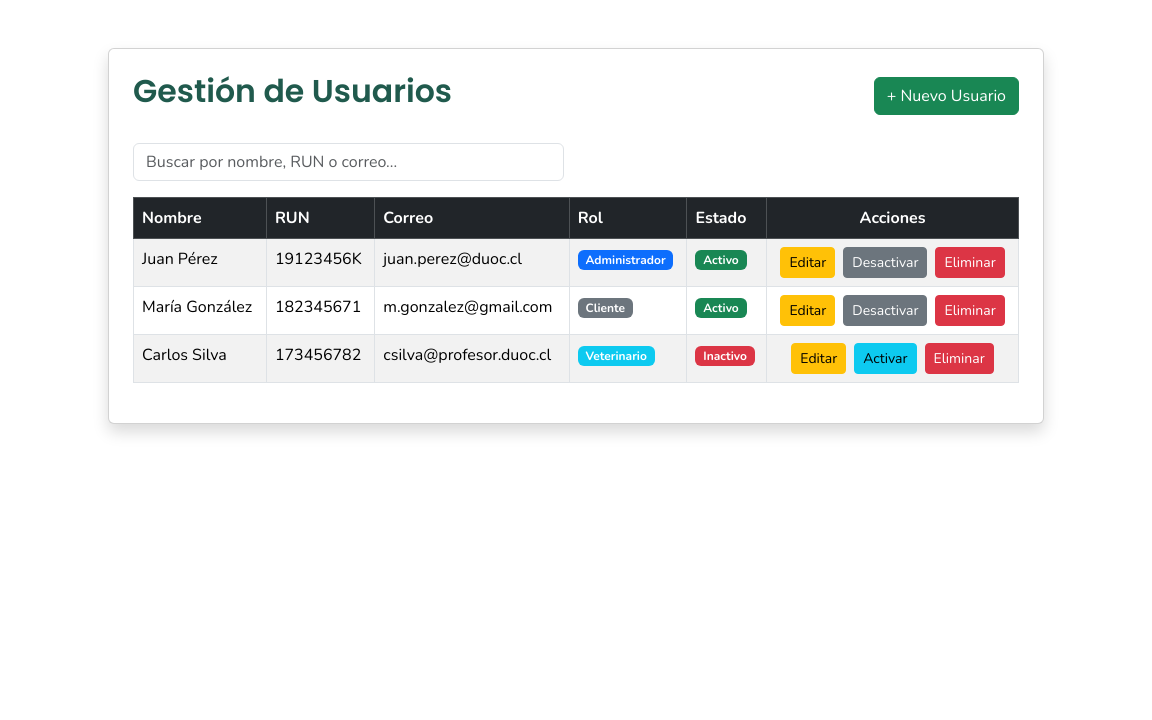
UsuariosAdmin Component › crea exitosamente un nuevo usuario y lo añade a la tabla
Click the button "+ Nuevo Usuario" at (946, 96), box [874,77,1019,115]
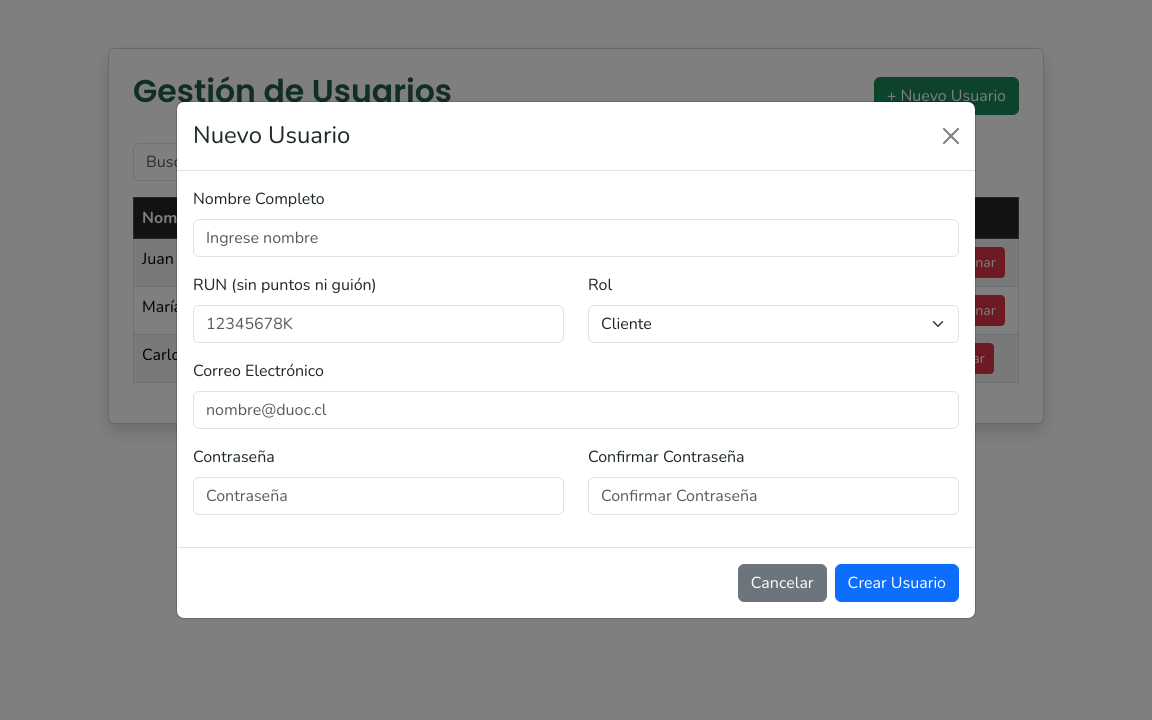
Type "Ana Torres" into the field with placeholder "Ingrese nombre" at (576, 238), box [193,219,959,257]
Type "111111111" into the field with placeholder "12345678K" at (378, 324), box [193,305,564,343]
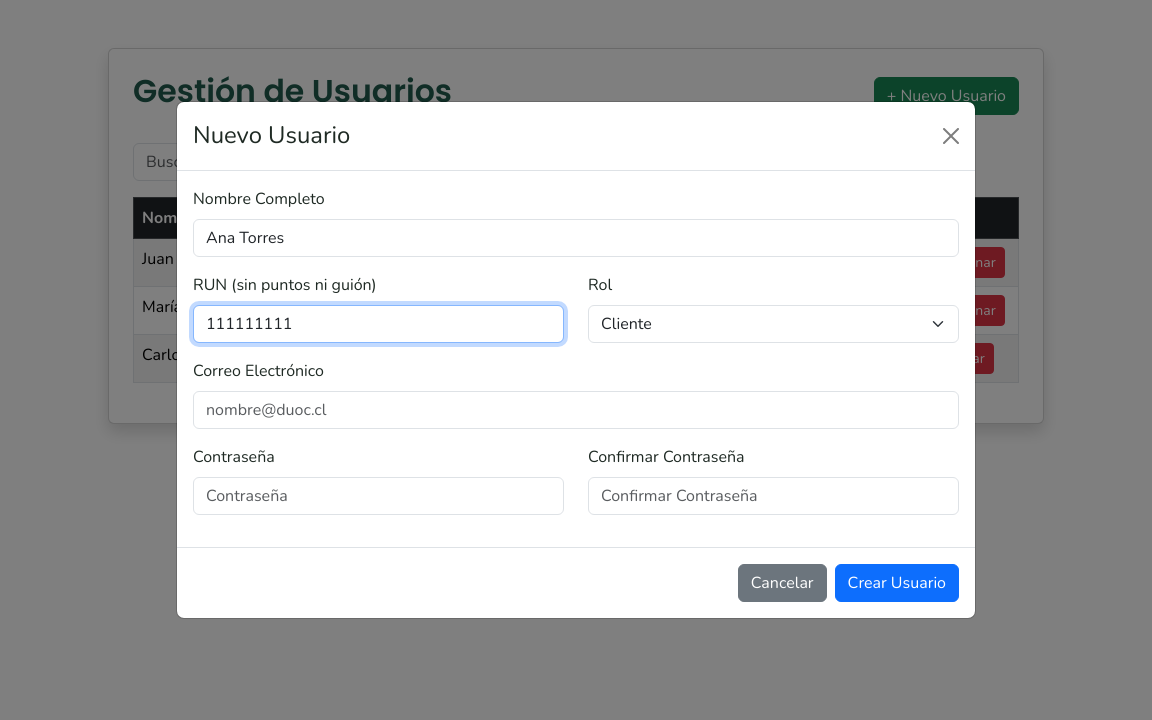
Type "ana.torres@duoc.cl" into the field with placeholder "nombre@duoc.cl" at (576, 410), box [193,391,959,429]
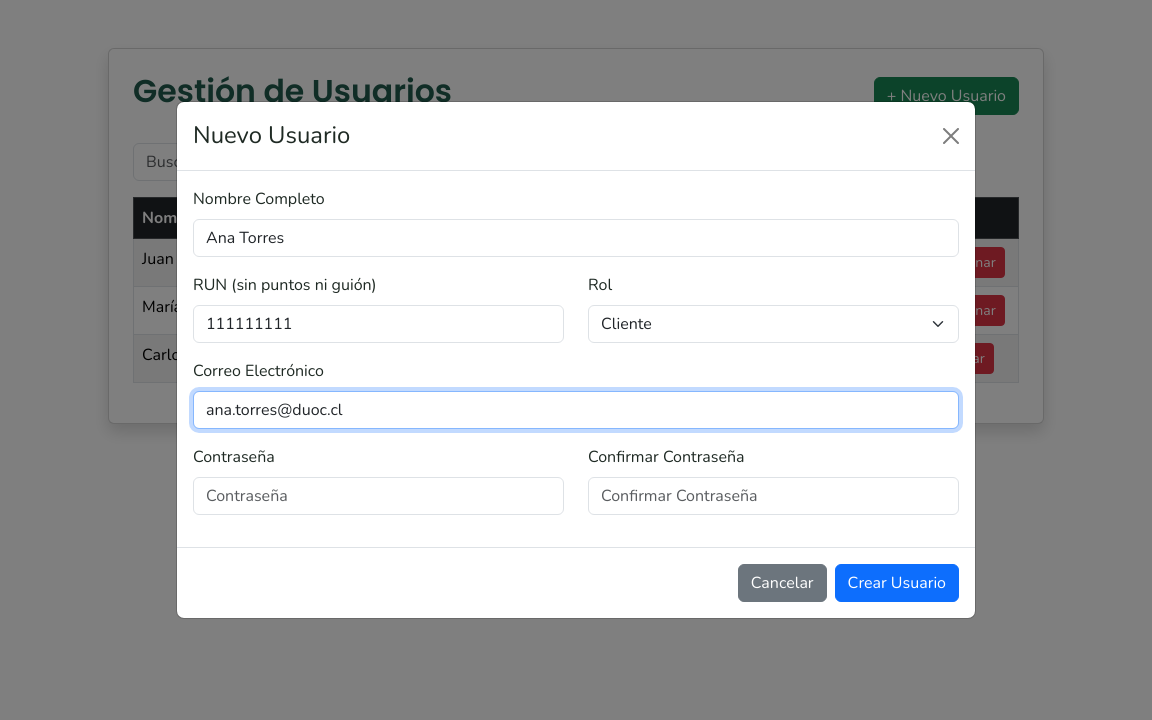
Type "123456" into the password field with placeholder "Contraseña" at (378, 496), box [193,477,564,515]
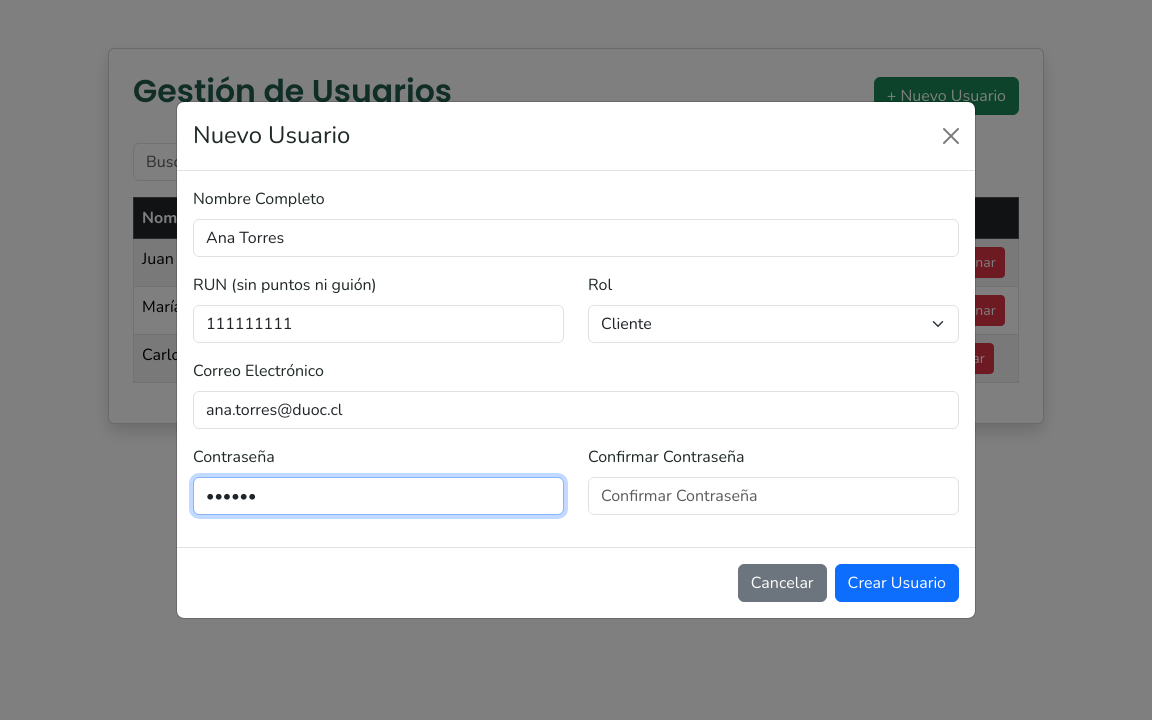
Type "123456" into the password field with placeholder "Confirmar Contraseña" at (774, 496), box [588,477,959,515]
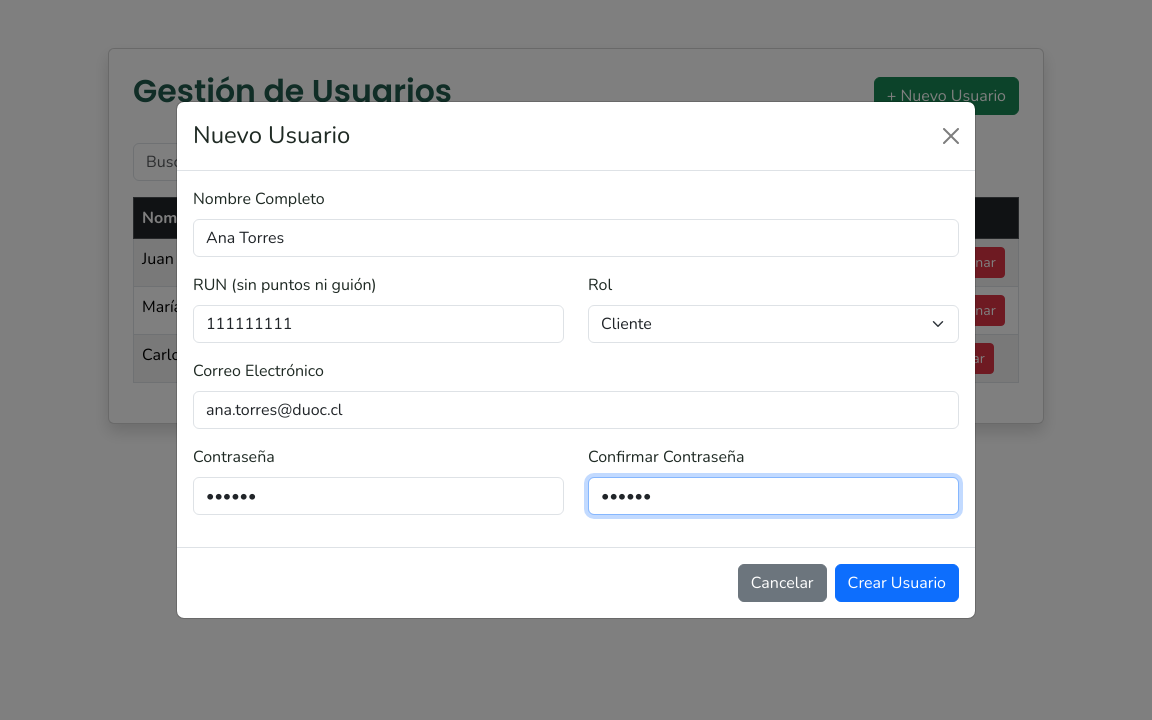
Click the button "Crear Usuario" at (897, 583), box [835,564,959,602]
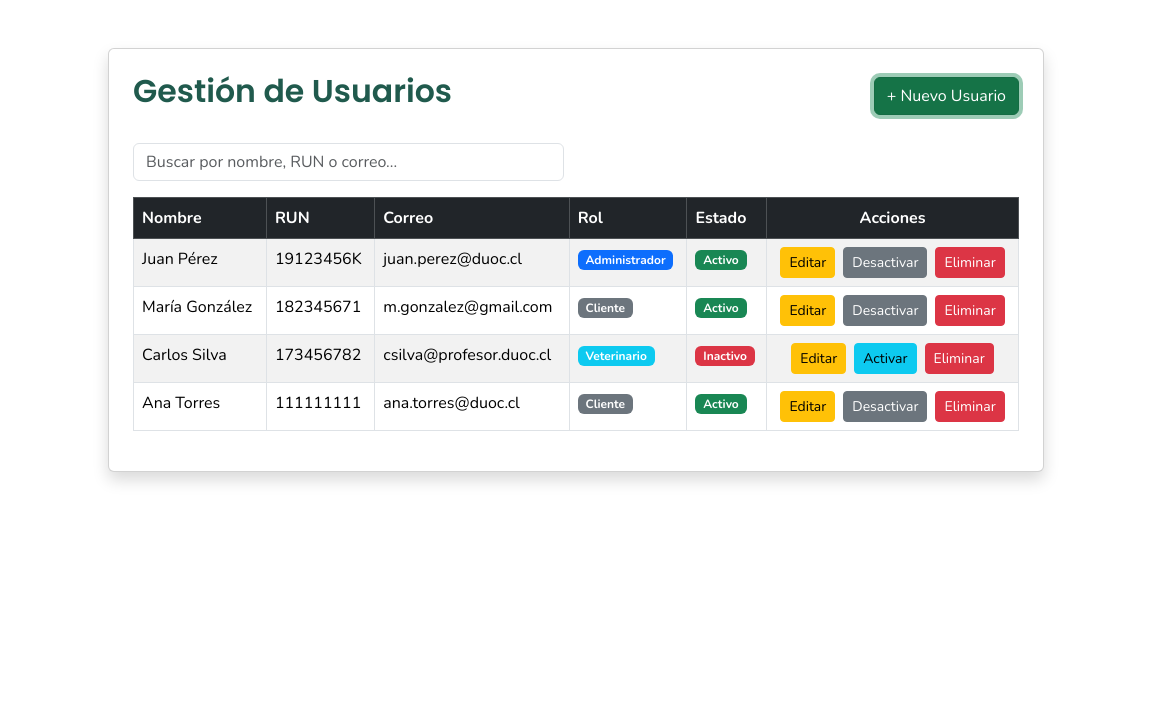
Check: the text "Ana Torres" is shown, box [134,382,266,430]
Check: the text "111111111" is shown, box [266,382,375,430]
Check: the text "ana.torres@duoc.cl" is shown, box [375,382,569,430]
